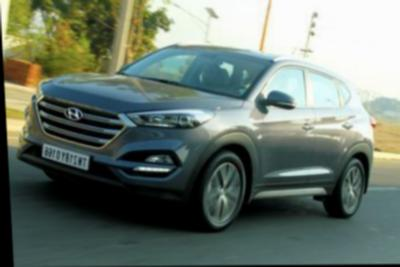License_Plate: (37, 144, 100, 170)
